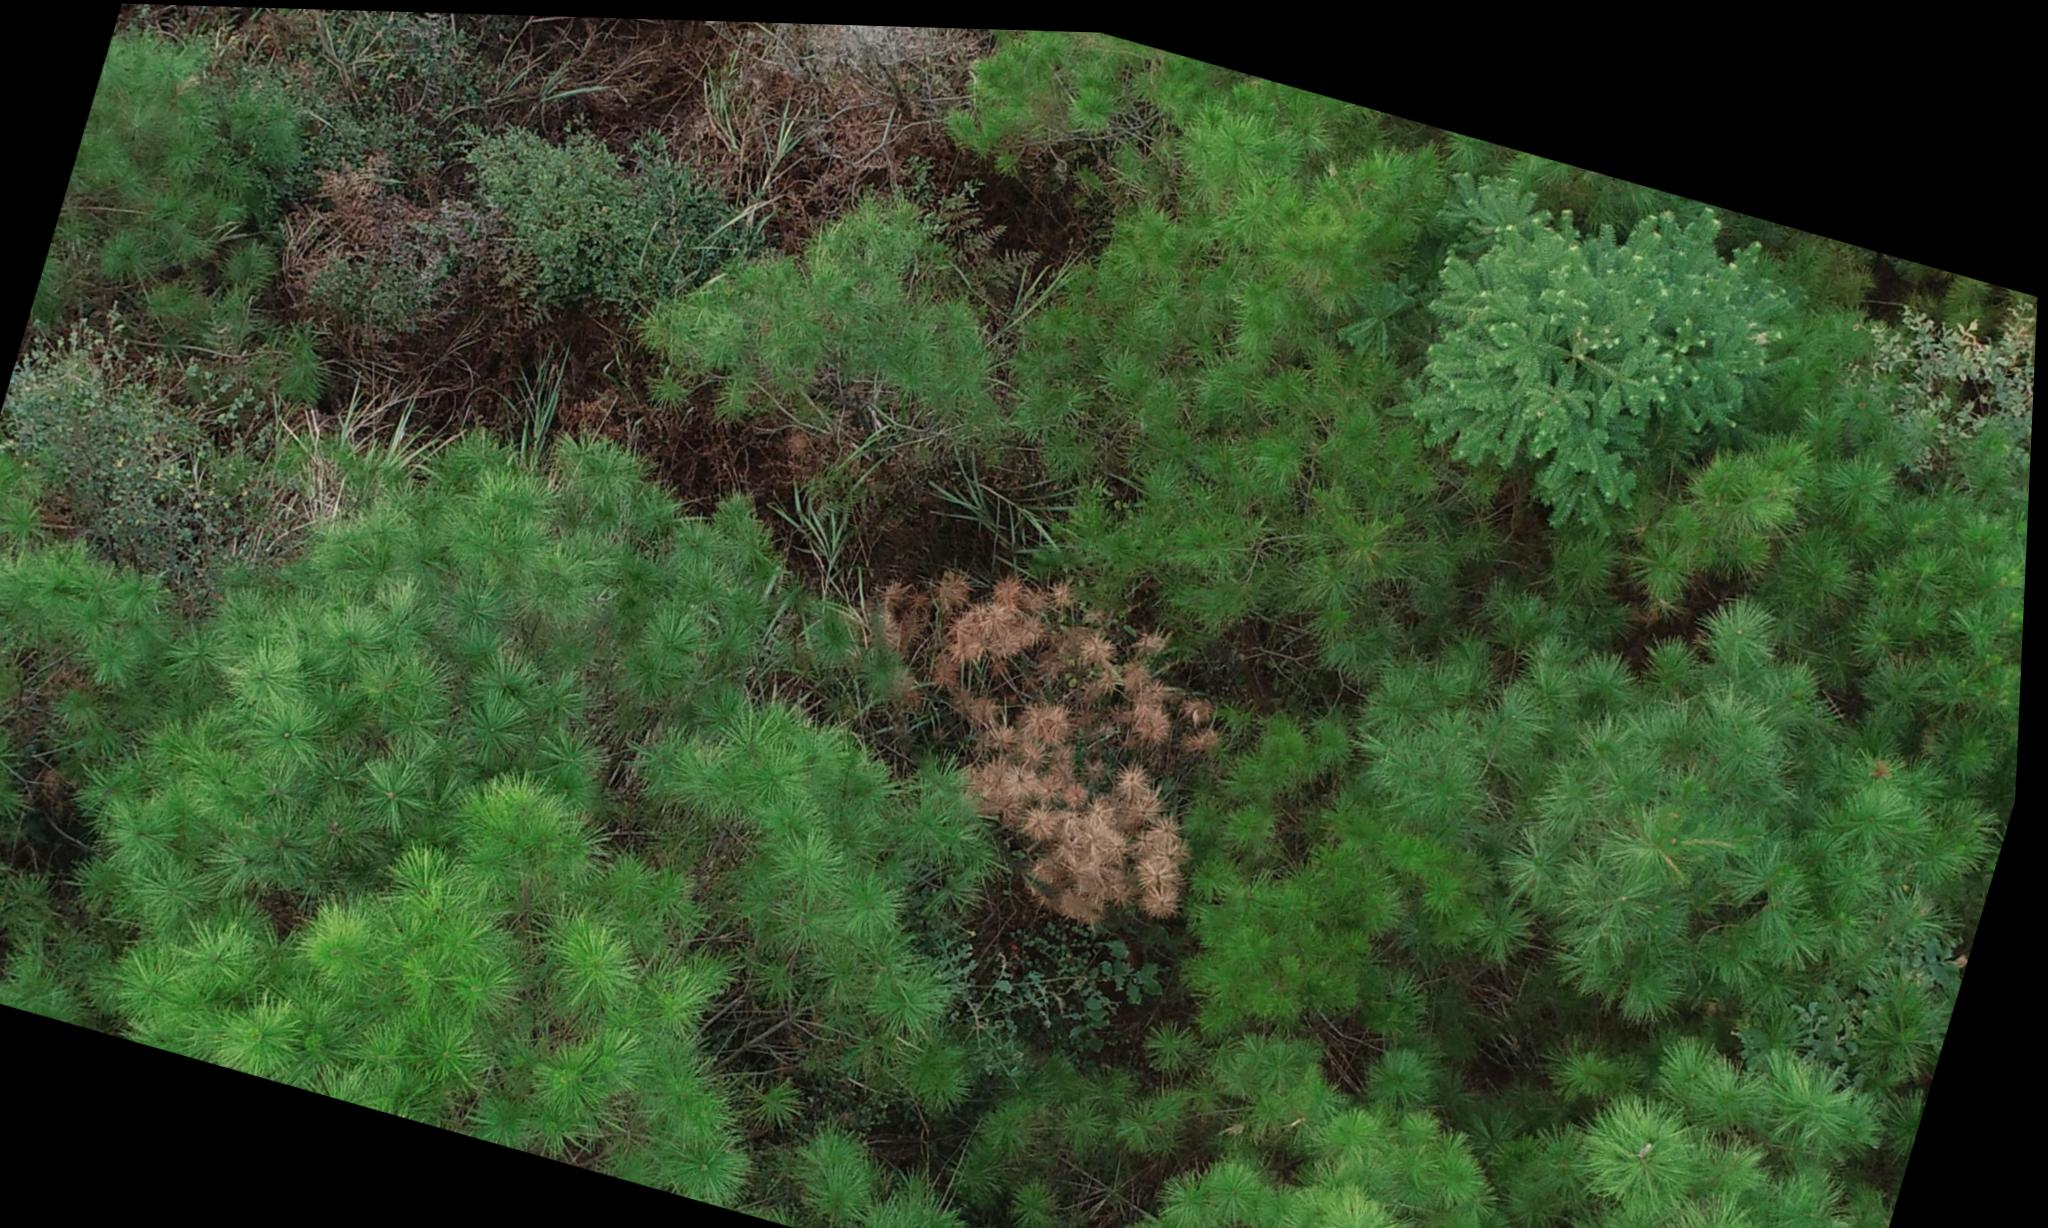dead: (658, 16, 988, 249)
heavy: (833, 541, 1254, 921)
